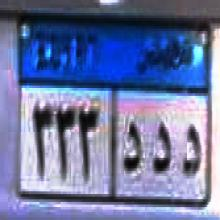3: (78, 96, 100, 183), (55, 96, 76, 184), (32, 98, 53, 178)
daal: (120, 115, 143, 182), (151, 119, 173, 180), (183, 123, 203, 184)
